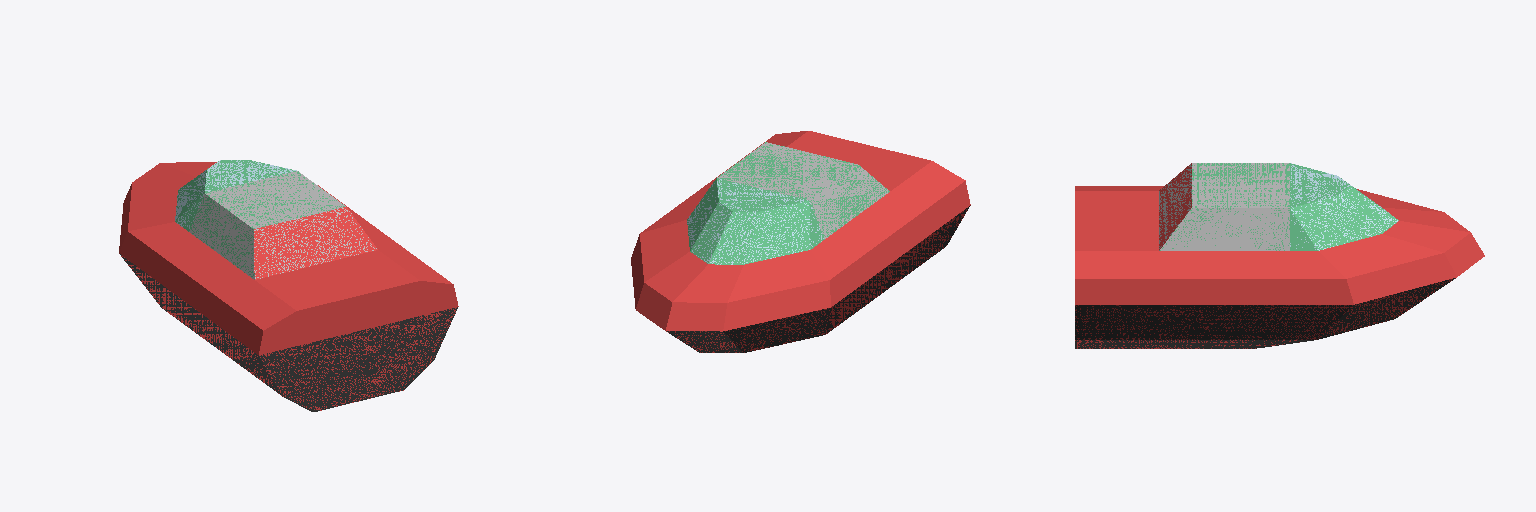
File: boat_016.obj
3 renders of one model, left to right at view 1: azimuth 30°, elevation 25°; view 2: azimuth 150°, elevation 25°; view 3: azimuth 270°, elevation 25°, orthographic.
Visible parts, largest first — view 1: boat_016; view 2: boat_016; view 3: boat_016.
Boxes of the visible parts, <box> form: boat_016: <box>119,160,458,411</box>; boat_016: <box>631,131,970,352</box>; boat_016: <box>1075,163,1484,348</box>.
Bounding box in the file's own units: 1.78 × 1.2 × 3.17.